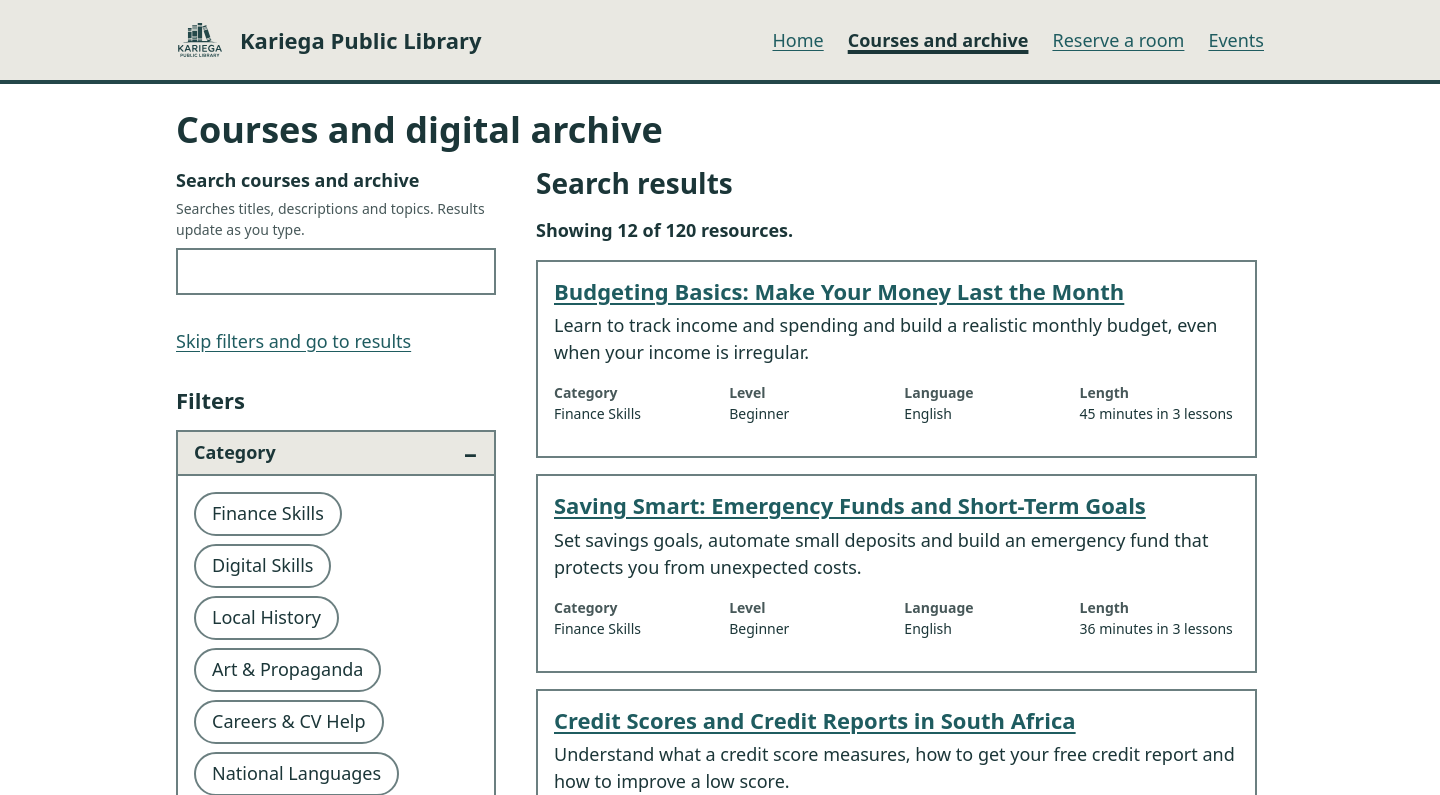
Test case: filterable resource listing › opens a course detail page with a breadcrumb
The width and height of the screenshot is (1440, 795).
Click the link "Budgeting Basics: Make Your Money Last the Month": (839, 291) [554,276,1124,306]
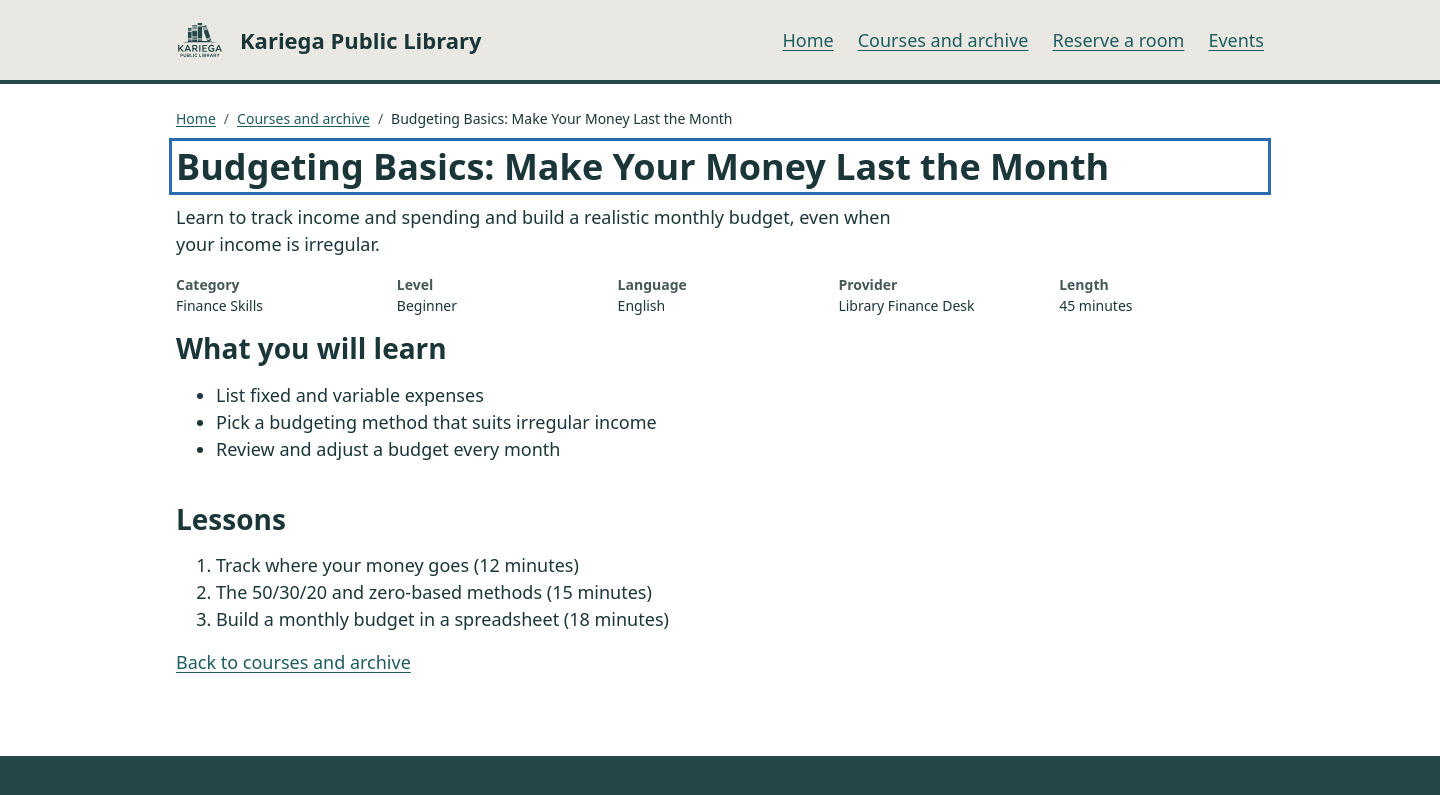
Expected: the navigation bar named "Breadcrumb" is shown, [176,109,732,128]
